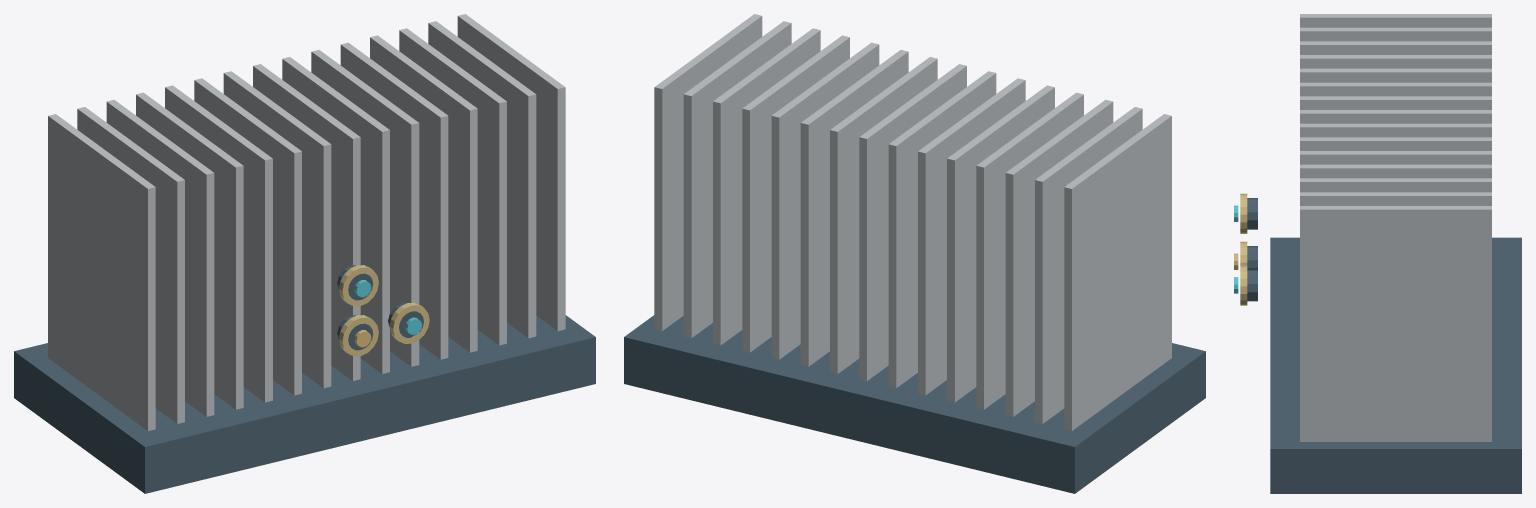
File: 48_L83_BatteryRadiatorFinAssembly.glb
3 views of the same model, side by side, from view 1: azimuth 30°, elevation 25°; view 2: azimuth 150°, elevation 25°; view 3: azimuth 270°, elevation 25° (orthographic). The views are drawn at different scales.
Visible parts, largest first — view 1: BatteryRadiatorFinAssembly_Node_0015, BatteryRadiatorFinAssembly_Node_0000, BatteryRadiatorFinAssembly_Node_0013, BatteryRadiatorFinAssembly_Node_0006, BatteryRadiatorFinAssembly_Node_0002, BatteryRadiatorFinAssembly_Node_0014, BatteryRadiatorFinAssembly_Node_0003, BatteryRadiatorFinAssembly_Node_0004, BatteryRadiatorFinAssembly_Node_0011, BatteryRadiatorFinAssembly_Node_0012, BatteryRadiatorFinAssembly_Node_0001, BatteryRadiatorFinAssembly_Node_0010 (+7 smaller); view 2: BatteryRadiatorFinAssembly_Node_0015, BatteryRadiatorFinAssembly_Node_0000, BatteryRadiatorFinAssembly_Node_0013, BatteryRadiatorFinAssembly_Node_0010, BatteryRadiatorFinAssembly_Node_0006, BatteryRadiatorFinAssembly_Node_0002, BatteryRadiatorFinAssembly_Node_0009, BatteryRadiatorFinAssembly_Node_0014, BatteryRadiatorFinAssembly_Node_0003, BatteryRadiatorFinAssembly_Node_0004, BatteryRadiatorFinAssembly_Node_0007, BatteryRadiatorFinAssembly_Node_0008 (+4 smaller); view 3: BatteryRadiatorFinAssembly_Node_0014, BatteryRadiatorFinAssembly_Node_0015, BatteryRadiatorFinAssembly_Node_0001, BatteryRadiatorFinAssembly_Node_0004, BatteryRadiatorFinAssembly_Node_0005, BatteryRadiatorFinAssembly_Node_0008, BatteryRadiatorFinAssembly_Node_0011, BatteryRadiatorFinAssembly_Node_0012, BatteryRadiatorFinAssembly_Node_0000, BatteryRadiatorFinAssembly_Node_0002, BatteryRadiatorFinAssembly_Node_0003, BatteryRadiatorFinAssembly_Node_0006 (+8 smaller).
Boxes of the visible parts, x1,y1,x2,y2 form: BatteryRadiatorFinAssembly_Node_0015: (14,315,595,493); BatteryRadiatorFinAssembly_Node_0000: (48,114,155,430); BatteryRadiatorFinAssembly_Node_0013: (428,21,536,338); BatteryRadiatorFinAssembly_Node_0006: (223,71,331,388); BatteryRadiatorFinAssembly_Node_0002: (106,99,214,416); BatteryRadiatorFinAssembly_Node_0014: (457,14,565,330); BatteryRadiatorFinAssembly_Node_0003: (136,92,243,409); BatteryRadiatorFinAssembly_Node_0004: (165,85,272,402); BatteryRadiatorFinAssembly_Node_0011: (370,35,477,352); BatteryRadiatorFinAssembly_Node_0012: (399,28,506,345); BatteryRadiatorFinAssembly_Node_0001: (77,107,184,423); BatteryRadiatorFinAssembly_Node_0010: (340,42,448,359); BatteryRadiatorFinAssembly_Node_0015: (624,315,1205,493); BatteryRadiatorFinAssembly_Node_0000: (1064,114,1171,430); BatteryRadiatorFinAssembly_Node_0013: (683,21,791,338); BatteryRadiatorFinAssembly_Node_0010: (771,42,879,359); BatteryRadiatorFinAssembly_Node_0006: (888,71,996,388); BatteryRadiatorFinAssembly_Node_0002: (1005,99,1113,416); BatteryRadiatorFinAssembly_Node_0009: (800,50,908,366); BatteryRadiatorFinAssembly_Node_0014: (654,14,762,330); BatteryRadiatorFinAssembly_Node_0003: (976,92,1083,409); BatteryRadiatorFinAssembly_Node_0004: (947,85,1054,402); BatteryRadiatorFinAssembly_Node_0007: (859,64,966,380); BatteryRadiatorFinAssembly_Node_0008: (830,57,937,373); BatteryRadiatorFinAssembly_Node_0014: (1300,206,1491,441); BatteryRadiatorFinAssembly_Node_0015: (1270,237,1521,493); BatteryRadiatorFinAssembly_Node_0001: (1300,27,1491,41); BatteryRadiatorFinAssembly_Node_0004: (1300,68,1491,82); BatteryRadiatorFinAssembly_Node_0005: (1300,82,1491,96); BatteryRadiatorFinAssembly_Node_0008: (1300,123,1491,137); BatteryRadiatorFinAssembly_Node_0011: (1300,164,1491,178); BatteryRadiatorFinAssembly_Node_0012: (1300,178,1491,192); BatteryRadiatorFinAssembly_Node_0000: (1300,14,1491,27); BatteryRadiatorFinAssembly_Node_0002: (1300,41,1491,54); BatteryRadiatorFinAssembly_Node_0003: (1300,55,1491,68); BatteryRadiatorFinAssembly_Node_0006: (1300,96,1491,109).
Size of the model in its own units: 1.51 by 0.925 by 0.8695.
